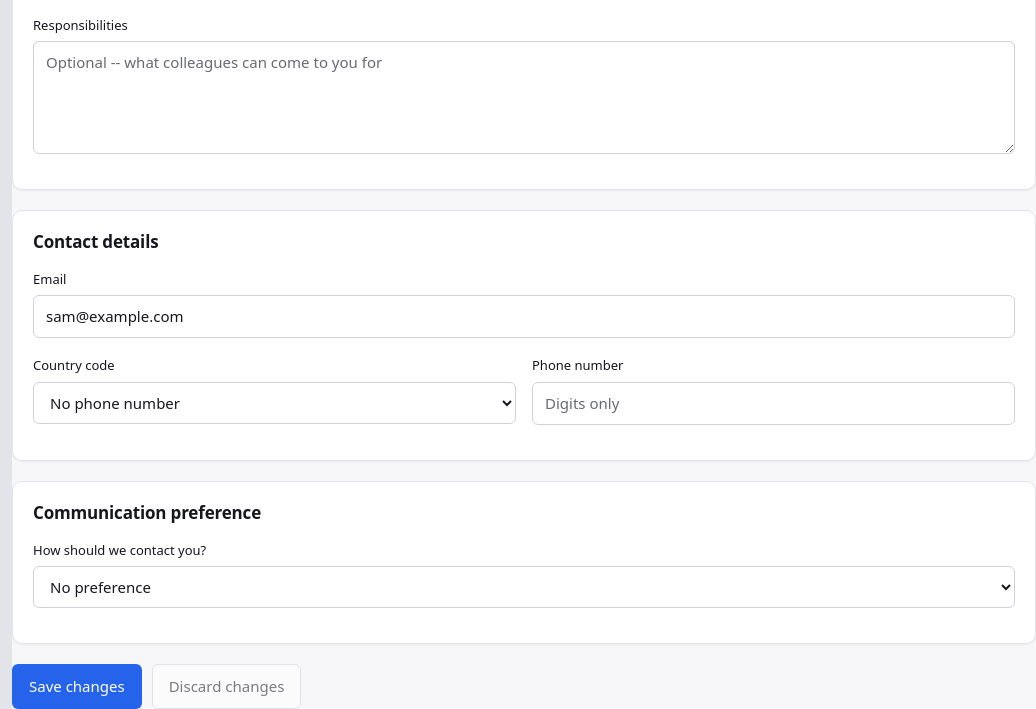
it: AC5 - no department blocks the save and flags the field › sends nothing and marks Department invalid
This screenshot has width=1036, height=709.
(page scrolled)
Click the button "Save changes". click: (77, 687)
box: [12,664,142,708]
(page scrolled)
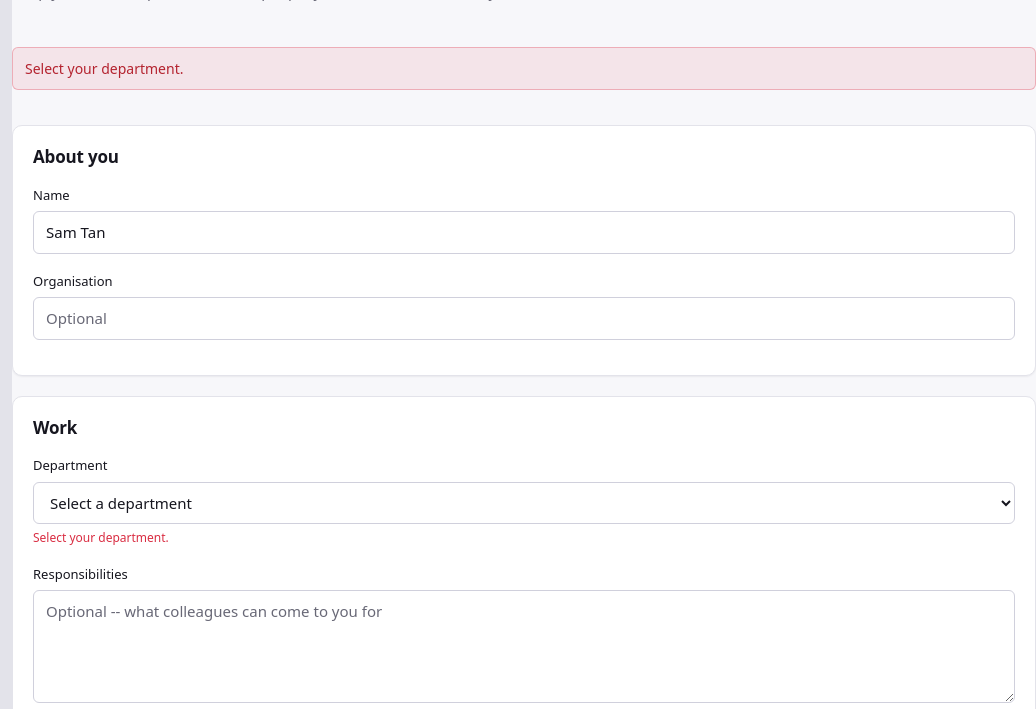
Now the text "Select your department." is shown, box [12,47,1035,90]
